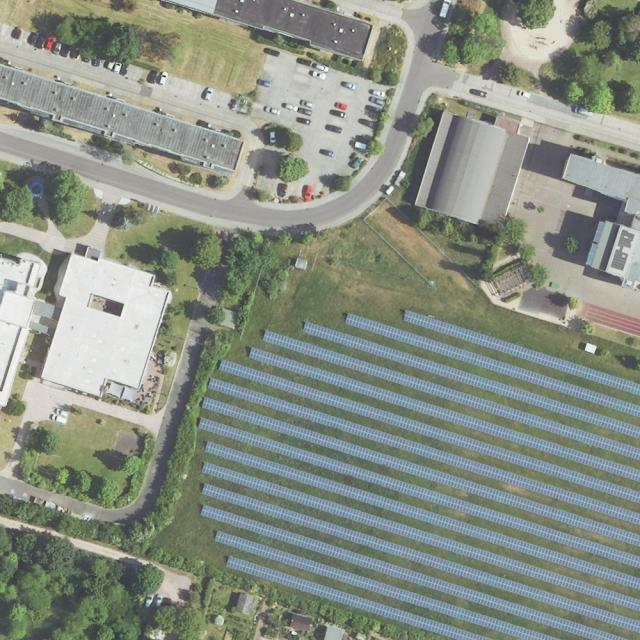PV: (196, 307, 640, 640), (611, 229, 635, 271)
